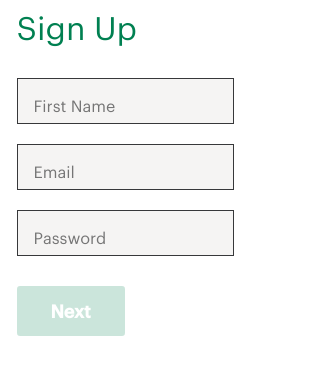
Scenario: SinUp Page › should render error when email is not correctly filled
Type "teste@" into the field with placeholder "Email".
click(125, 167); type("teste@")  # box [16, 144, 234, 190]
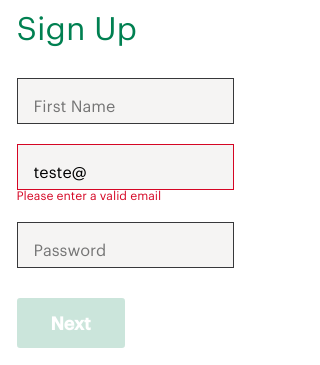
Now the text "Please enter a valid email" is shown, box [16, 190, 161, 202]
